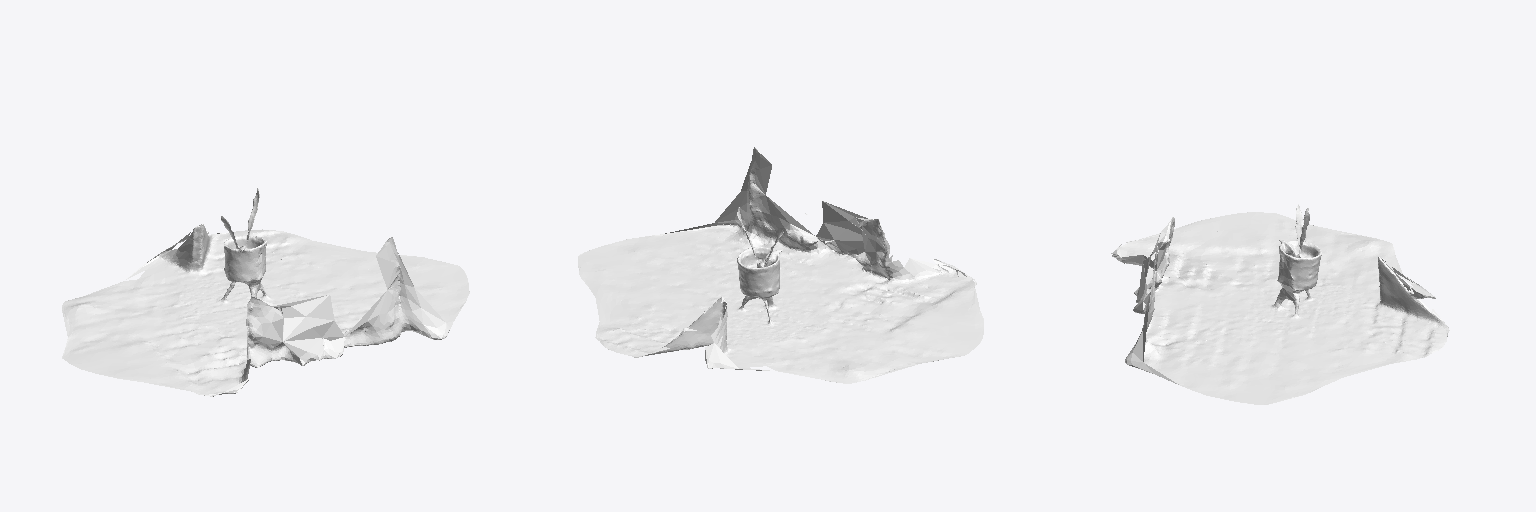
Rendered from planta_2.obj.
3 views of the same model, side by side, from view 1: azimuth 30°, elevation 25°; view 2: azimuth 150°, elevation 25°; view 3: azimuth 270°, elevation 25° (orthographic).
Parts seen in each view (by area): view 1: mesh; view 2: mesh; view 3: mesh.
Part boxes in pixels (left/top/right/bottom): mesh: left=62, top=187, right=469, bottom=396; mesh: left=578, top=147, right=983, bottom=383; mesh: left=1111, top=204, right=1449, bottom=404.
Size of the model in its own units: 2.36 by 0.6417 by 1.77.